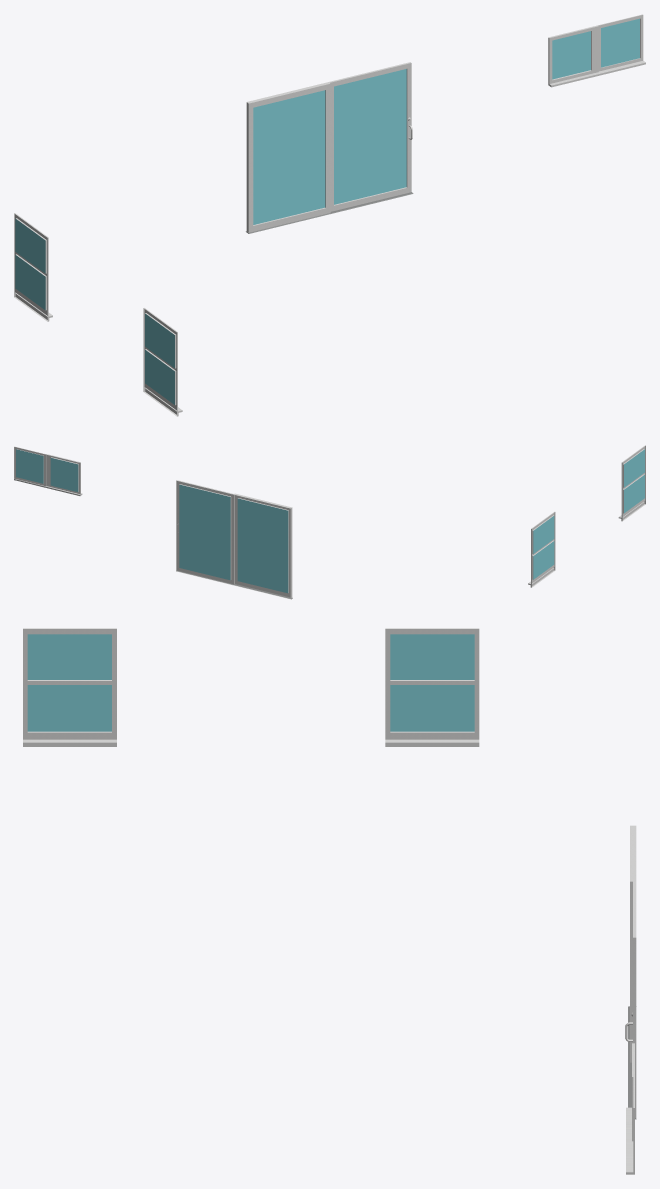
The model's file is windows.fbx.
The picture shows the model from 3 angles, top to bottom: view 1: azimuth 30°, elevation 25°; view 2: azimuth 150°, elevation 25°; view 3: azimuth 270°, elevation 25°; orthographic projection. The views are drawn at different scales.
Parts seen in each view (by area): view 1: windows; view 2: windows; view 3: windows.
Part boxes in pixels (x1,y1,x2,y2): windows: (14, 14, 645, 416); windows: (14, 445, 645, 599); windows: (23, 628, 636, 1174).
Bounding box in the file's own units: 1195 × 217 × 663.
